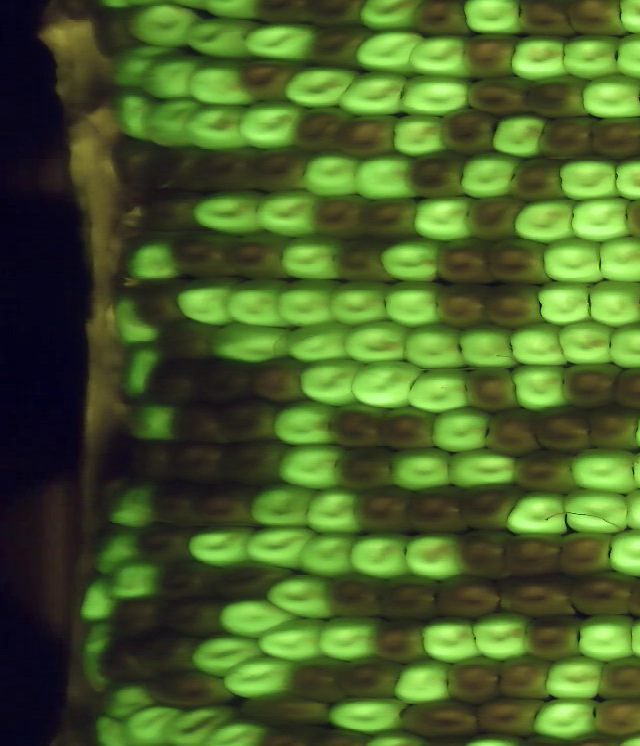fluorescent: (204, 316, 299, 368), (346, 355, 426, 416), (249, 181, 325, 245), (184, 55, 262, 117), (562, 440, 640, 501), (240, 519, 322, 577), (224, 273, 300, 334), (215, 654, 304, 706), (504, 193, 585, 250), (254, 611, 332, 670), (272, 439, 351, 497), (401, 526, 474, 588), (123, 1, 208, 54), (173, 273, 248, 333), (104, 41, 182, 98), (156, 695, 243, 746), (238, 18, 328, 67), (135, 90, 205, 153), (557, 483, 634, 540), (392, 71, 478, 122), (186, 186, 270, 238), (234, 95, 308, 154), (275, 230, 349, 289), (414, 611, 488, 670), (502, 316, 577, 374), (407, 191, 483, 248), (272, 277, 348, 334), (297, 350, 370, 409), (244, 479, 325, 532), (313, 611, 391, 666), (322, 690, 413, 737), (135, 48, 206, 108), (334, 65, 411, 120), (180, 11, 263, 62), (346, 149, 420, 206), (181, 98, 256, 154), (376, 233, 451, 289), (497, 488, 575, 541), (181, 522, 262, 573), (441, 443, 525, 492), (280, 62, 359, 114), (383, 439, 455, 496), (214, 595, 301, 642), (529, 690, 602, 746), (265, 569, 339, 624), (425, 403, 497, 459), (86, 520, 150, 583), (323, 275, 397, 329), (400, 365, 475, 418), (348, 27, 424, 79), (190, 629, 269, 679), (269, 396, 342, 450), (345, 529, 415, 585), (457, 147, 528, 202), (399, 318, 468, 374), (529, 274, 599, 329), (341, 317, 415, 369), (302, 481, 368, 539), (553, 313, 620, 370), (573, 608, 640, 665), (452, 319, 522, 373), (282, 316, 359, 365), (468, 609, 535, 665), (389, 652, 456, 708), (567, 192, 636, 246), (542, 649, 611, 703), (101, 479, 165, 537), (76, 618, 121, 700), (379, 276, 446, 331), (555, 29, 623, 83), (507, 33, 576, 86), (540, 234, 609, 287), (403, 30, 474, 81), (293, 529, 362, 581), (107, 81, 161, 147), (578, 70, 640, 126), (486, 111, 554, 162), (303, 149, 367, 203), (552, 157, 627, 203), (115, 697, 185, 746), (105, 292, 165, 349), (385, 111, 455, 159), (73, 570, 129, 630), (104, 550, 165, 605), (120, 235, 187, 285), (581, 276, 640, 330), (114, 343, 168, 402), (590, 230, 640, 287), (351, 1, 432, 36), (456, 1, 527, 40), (100, 678, 160, 722), (194, 716, 276, 746), (602, 316, 640, 374), (606, 523, 640, 587), (85, 710, 135, 746), (609, 29, 640, 82), (610, 1, 640, 41)
nonfluorescent: (141, 663, 235, 715), (165, 223, 242, 286), (491, 570, 584, 622), (430, 565, 513, 623), (105, 132, 170, 206), (332, 647, 407, 710), (207, 555, 297, 607), (480, 229, 554, 292), (455, 475, 529, 538), (219, 228, 295, 289), (213, 431, 290, 491), (128, 623, 209, 680), (393, 697, 488, 744), (471, 690, 556, 742), (348, 478, 419, 540), (371, 571, 451, 626), (439, 648, 508, 711), (402, 145, 473, 206), (526, 401, 599, 460), (286, 652, 356, 713), (153, 589, 231, 643), (403, 479, 472, 540), (114, 430, 189, 486), (186, 351, 257, 410), (521, 609, 587, 672), (363, 613, 434, 671), (352, 192, 425, 248), (529, 112, 606, 165), (506, 444, 583, 497), (566, 566, 640, 621), (240, 353, 316, 406), (330, 439, 397, 499), (323, 397, 391, 456), (322, 566, 391, 624), (165, 438, 235, 495), (103, 590, 174, 646), (557, 357, 629, 412), (454, 521, 514, 587), (236, 688, 335, 728), (190, 478, 263, 532), (478, 276, 548, 332), (462, 189, 528, 248), (374, 403, 442, 460), (166, 398, 236, 453), (459, 71, 533, 123), (301, 21, 375, 73), (497, 530, 569, 583), (189, 142, 259, 196), (480, 404, 548, 459), (213, 395, 286, 446), (151, 555, 224, 606), (246, 140, 309, 199), (525, 70, 595, 123), (145, 477, 210, 534), (328, 112, 402, 162), (501, 152, 572, 204), (130, 514, 198, 568), (91, 636, 163, 687), (289, 102, 354, 158), (331, 233, 397, 288), (307, 192, 374, 246), (432, 232, 499, 286), (552, 528, 621, 580), (495, 649, 559, 705), (459, 29, 524, 84), (434, 104, 499, 159), (234, 54, 304, 105), (140, 358, 206, 412), (145, 143, 212, 196), (136, 184, 203, 237), (460, 362, 523, 417), (86, 3, 145, 61), (580, 399, 640, 456), (427, 278, 489, 333), (153, 316, 222, 365), (583, 114, 640, 171), (128, 276, 188, 329), (559, 1, 636, 41), (586, 691, 640, 742), (593, 654, 640, 711), (407, 1, 477, 39), (514, 1, 579, 40), (298, 1, 365, 31), (248, 1, 312, 31), (608, 360, 640, 416)
